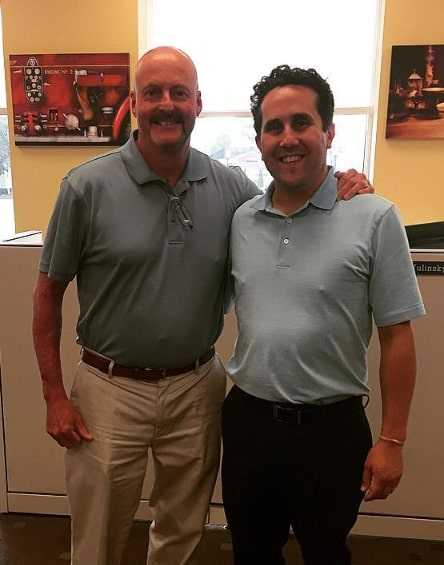Staff: (71, 42, 379, 383)
